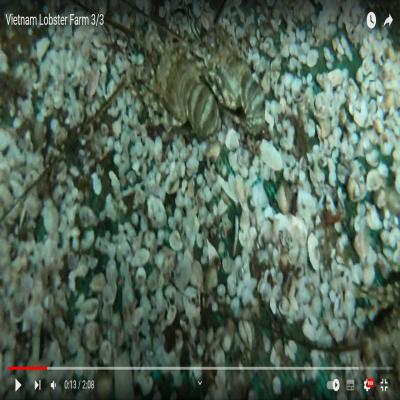lobster: (149, 44, 218, 135), (207, 29, 266, 134)
